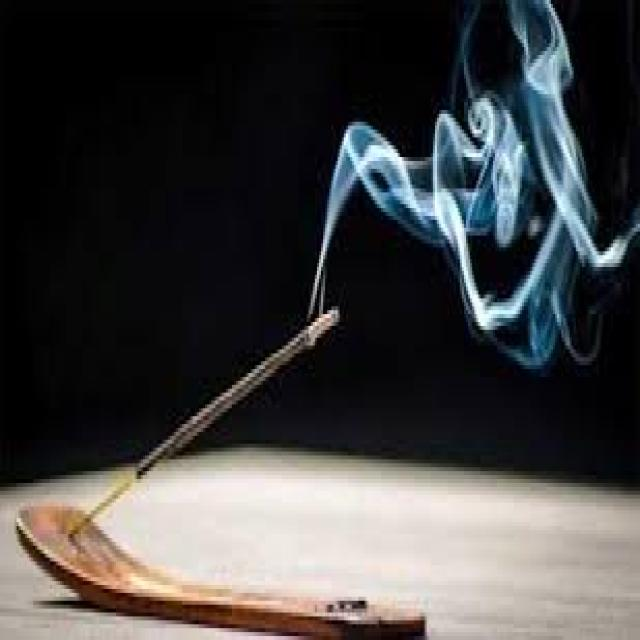Agarbatti: (64, 299, 345, 531)
